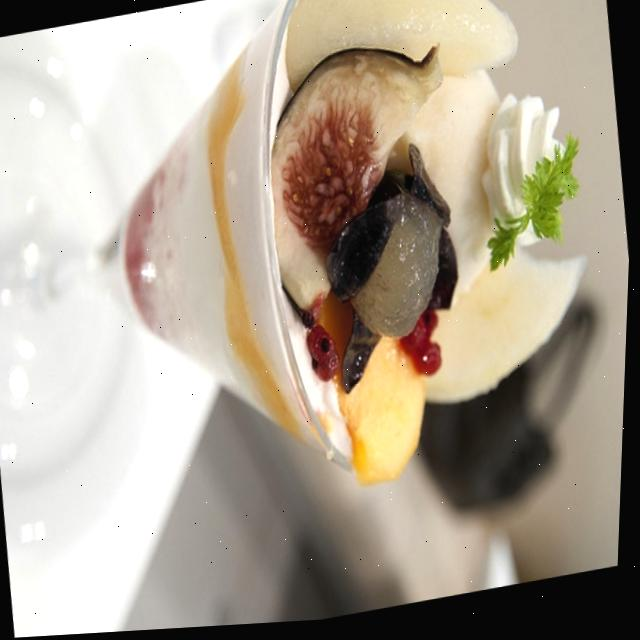蛋糕甜品: (1, 0, 640, 553)
